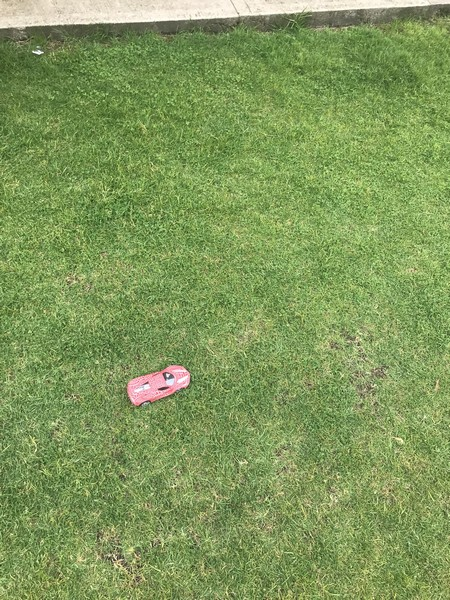RC: (126, 364, 192, 407)
